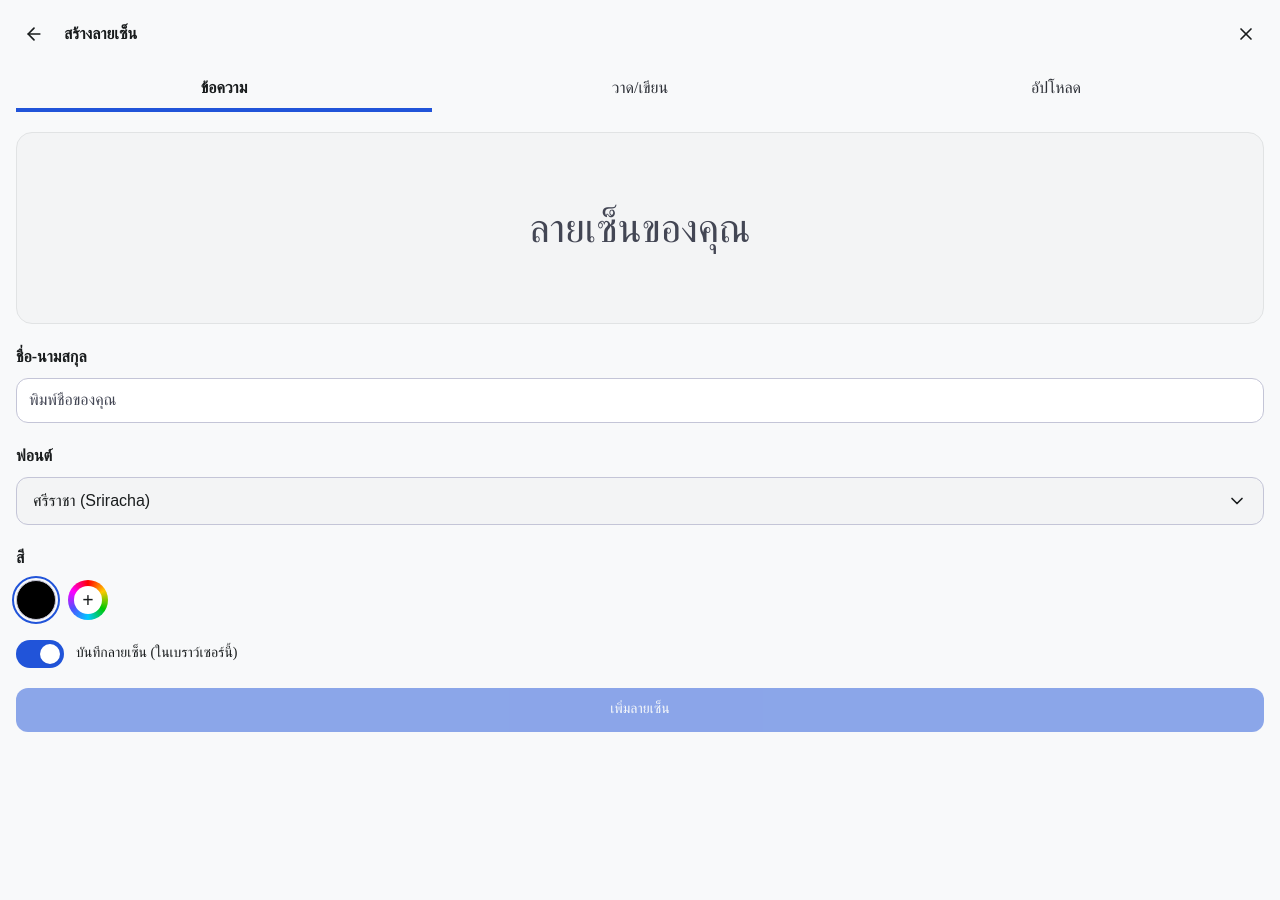
Scenario: ลายเซ็นแบบวาด › ลายเซ็นที่บันทึกไว้แบบเสีย (มีเส้น null) เปิดแผงได้ไม่พัง
Click the tab "วาด/เขียน". click: (640, 90)
box: [432, 68, 848, 112]
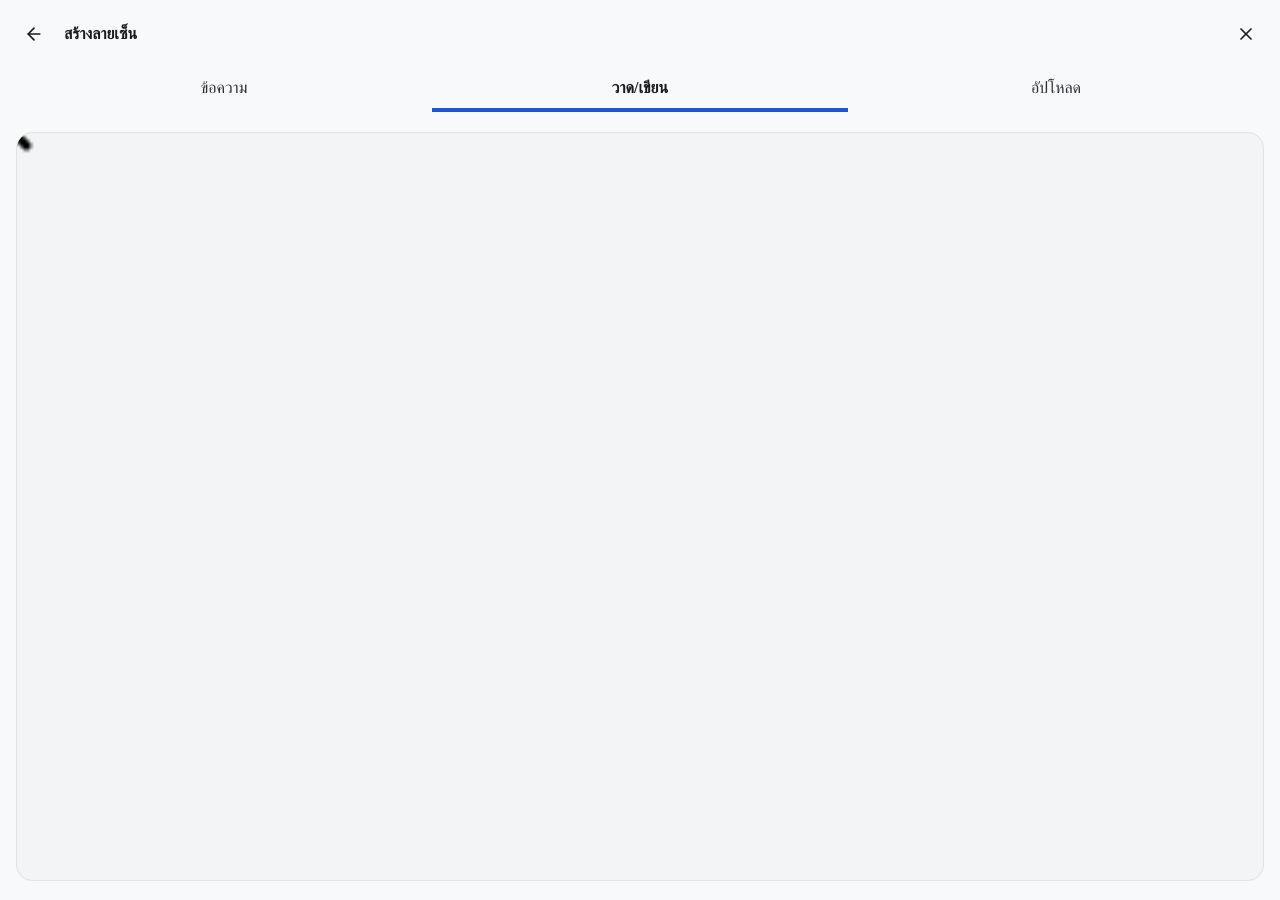
Expected: the picture named "แผ่นสำหรับเซ็นชื่อ" is shown
